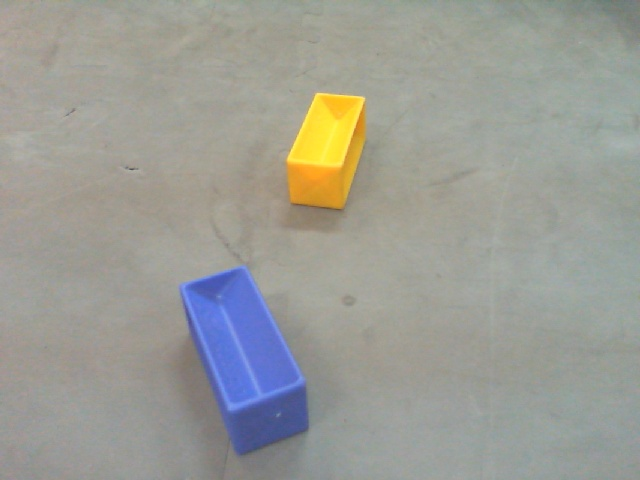BlueSample: (178, 266, 315, 458)
YellowSample: (280, 91, 369, 214)
